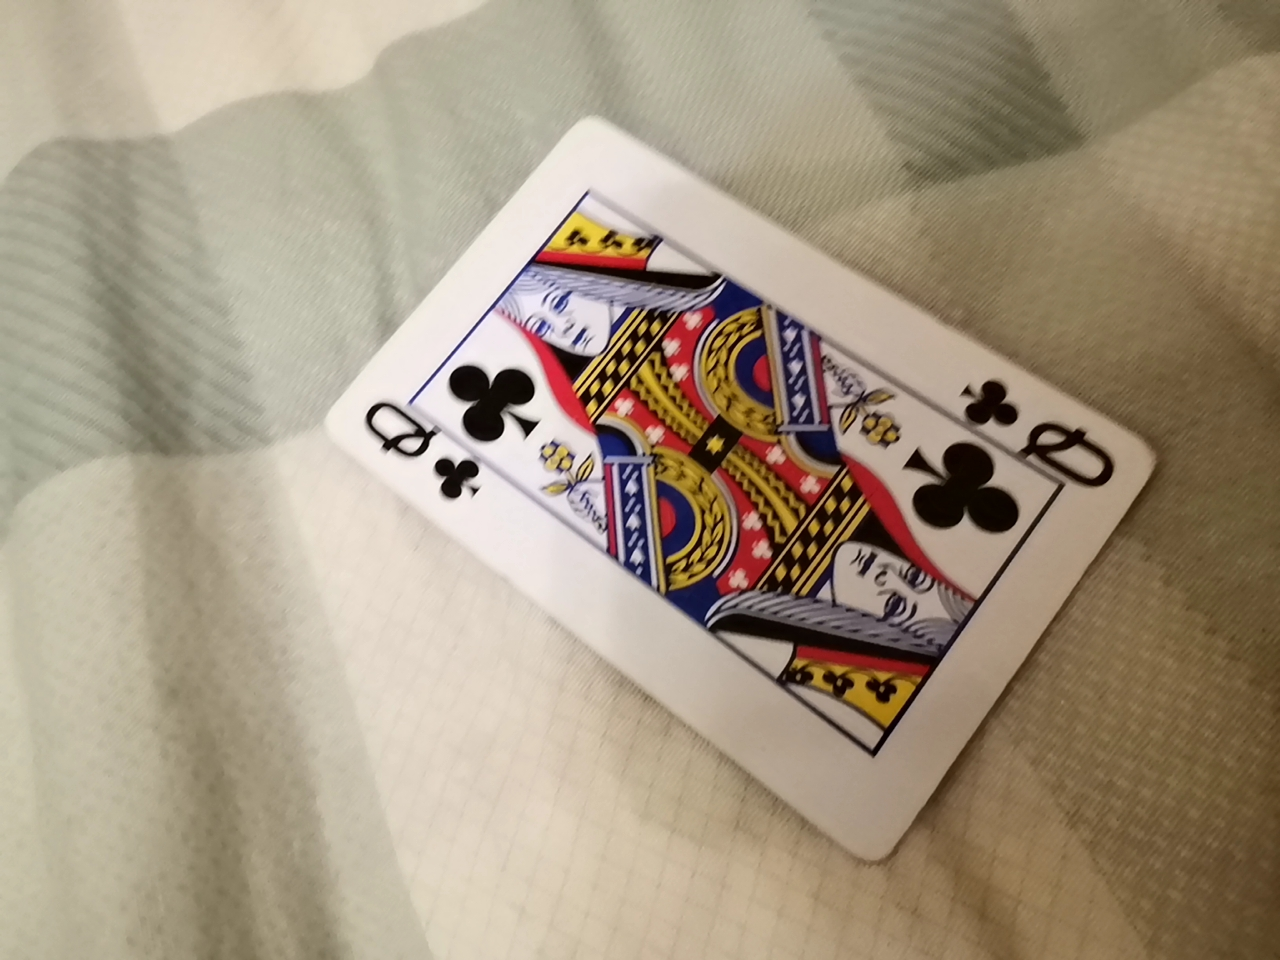mh q: (317, 110, 1146, 893)
